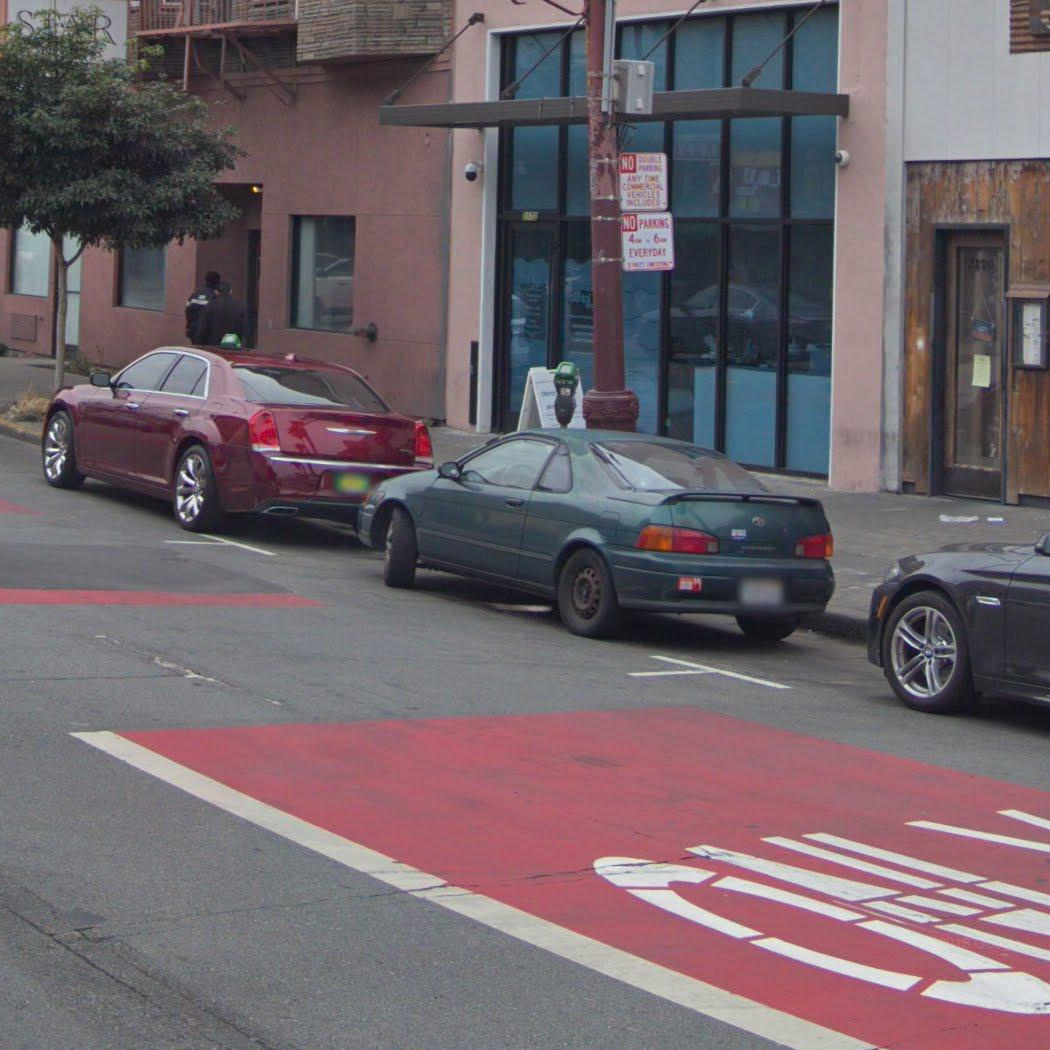No Parking: (618, 209, 677, 273), (617, 151, 670, 212)
